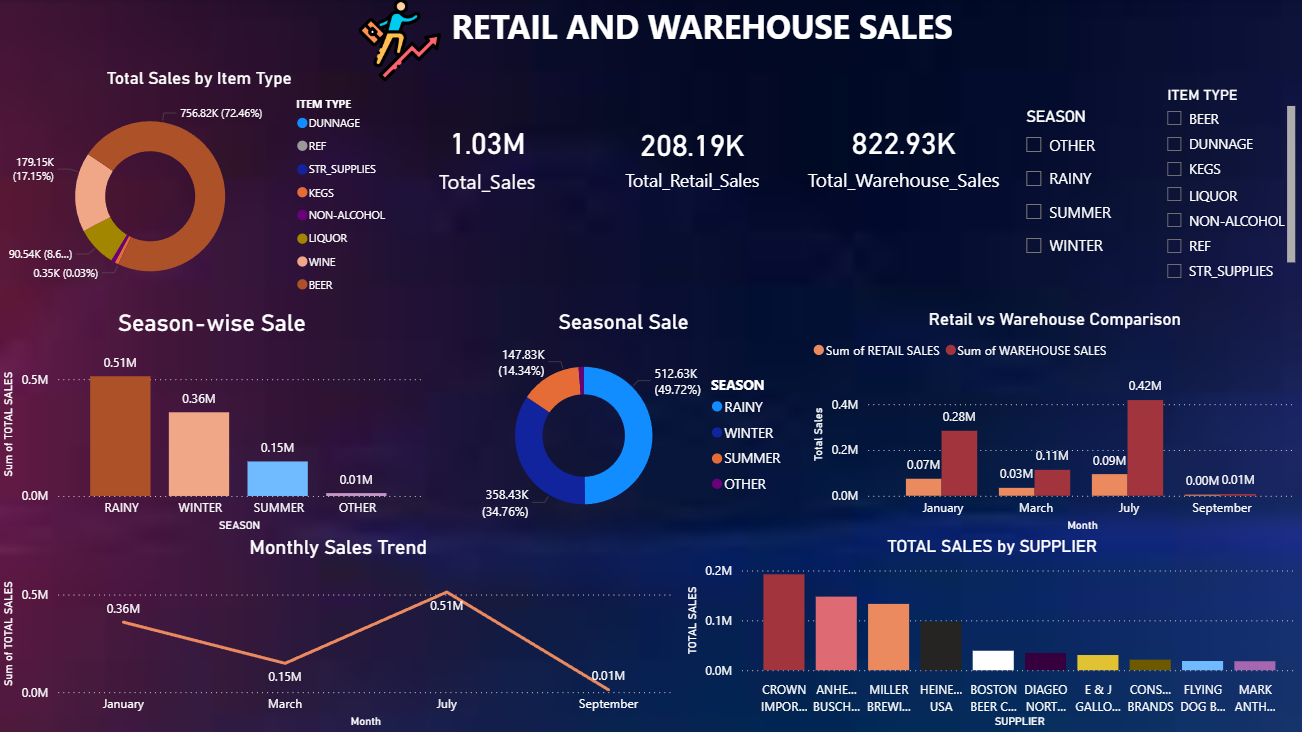

The page's visual inventory and layout, read from the dashboard file:
{"tool":"powerbi","page":{"name":"Page 1","canvas":[1280,720],"ordinal":0},"visuals":[{"type":"card","fields":{"Values":["final_sales_dataset_for_powerbi.Total_Sales"]},"box":[380.4,103.1,200,100.6],"z":0},{"type":"card","fields":{"Values":["final_sales_dataset_for_powerbi.Retail_Sales"]},"box":[580.4,103.1,202.5,100.6],"z":1000},{"type":"card","fields":{"Values":["final_sales_dataset_for_powerbi.Warehouse_Sales"]},"box":[783.1,101.6,212.7,101.6],"z":2000},{"type":"lineChart","title":"Monthly Sales Trend","fields":{"Y":["Sum(final_sales_dataset_for_powerbi.TOTAL SALES)"],"Category":["final_sales_dataset_for_powerbi.YEAR_MONTH.Variation.Date Hierarchy.Month"]},"box":[0,527.4,668,192.8],"z":3000},{"type":"clusteredColumnChart","title":"Season-wise Sale","fields":{"Y":["Sum(final_sales_dataset_for_powerbi.TOTAL SALES)"],"Category":["final_sales_dataset_for_powerbi.SEASON"]},"box":[0,304.8,420,223.5],"z":4000},{"type":"clusteredColumnChart","title":"Retail vs Warehouse Comparison","fields":{"Y":["Sum(final_sales_dataset_for_powerbi.RETAIL SALES)","Sum(final_sales_dataset_for_powerbi.WAREHOUSE SALES)"],"Category":["final_sales_dataset_for_powerbi.YEAR_MONTH.Variation.Date Hierarchy.Month"]},"box":[795.1,304.3,484.7,223.3],"z":5000},{"type":"donutChart","title":"Total Sales by Item Type","fields":{"Category":["final_sales_dataset_for_powerbi.ITEM TYPE"],"Y":["Sum(final_sales_dataset_for_powerbi.TOTAL SALES)"]},"box":[1.2,67.5,392.6,231.9],"z":6000},{"type":"columnChart","fields":{"Category":["final_sales_dataset_for_powerbi.SUPPLIER"],"Y":["Sum(final_sales_dataset_for_powerbi.TOTAL SALES)"]},"box":[671,526.9,609.3,193.5],"z":7000},{"type":"donutChart","title":"Seasonal Sale","fields":{"Category":["final_sales_dataset_for_powerbi.SEASON"],"Y":["Sum(final_sales_dataset_for_powerbi.TOTAL SALES)"]},"box":[445.4,304.3,337.4,223.3],"z":8000},{"type":"textbox","box":[365,0,653.2,81],"z":9000},{"type":"slicer","fields":{"Values":["final_sales_dataset_for_powerbi.SEASON"]},"box":[996.2,101.5,140,183.9],"z":10000},{"type":"slicer","fields":{"Values":["final_sales_dataset_for_powerbi.ITEM TYPE"]},"box":[1135.3,81.3,143.6,204.6],"z":11000},{"type":"image","box":[348.5,0,92,81],"z":12000}]}

Visuals, with their boxes in screenshot pixels (x1, y1, x2, y2), scaled from the page's 1280x720 canvas onto the 1302x732 screenshot:
card - final_sales_dataset_for_powerbi.Total_Sales: Rect(387, 105, 590, 207)
card - final_sales_dataset_for_powerbi.Retail_Sales: Rect(590, 105, 796, 207)
card - final_sales_dataset_for_powerbi.Warehouse_Sales: Rect(797, 103, 1013, 207)
"Monthly Sales Trend" lineChart: Rect(0, 536, 679, 731)
"Season-wise Sale" clusteredColumnChart: Rect(0, 310, 427, 537)
"Retail vs Warehouse Comparison" clusteredColumnChart: Rect(809, 309, 1301, 536)
"Total Sales by Item Type" donutChart: Rect(1, 69, 401, 304)
columnChart - final_sales_dataset_for_powerbi.SUPPLIER x Sum(final_sales_dataset_for_powerbi.TOTAL SALES): Rect(683, 536, 1301, 731)
"Seasonal Sale" donutChart: Rect(453, 309, 796, 536)
textbox: Rect(371, 0, 1036, 82)
slicer - final_sales_dataset_for_powerbi.SEASON: Rect(1013, 103, 1156, 290)
slicer - final_sales_dataset_for_powerbi.ITEM TYPE: Rect(1155, 83, 1301, 291)
image: Rect(354, 0, 448, 82)
